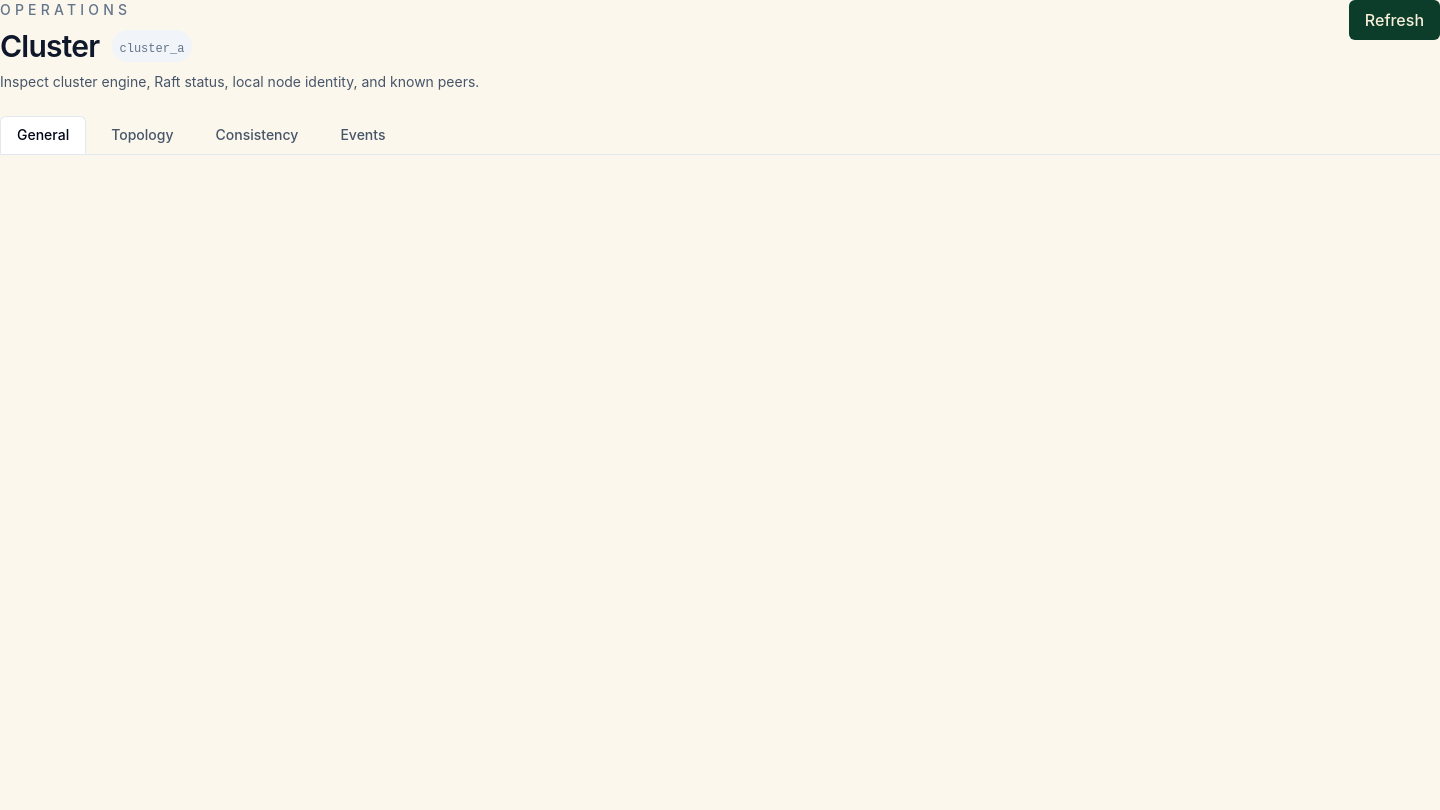
Test: ClusterPage › runs read-only graph consistency diagnostics
Click the tab "Consistency" at x=257, y=135, box [198,116,315,154]
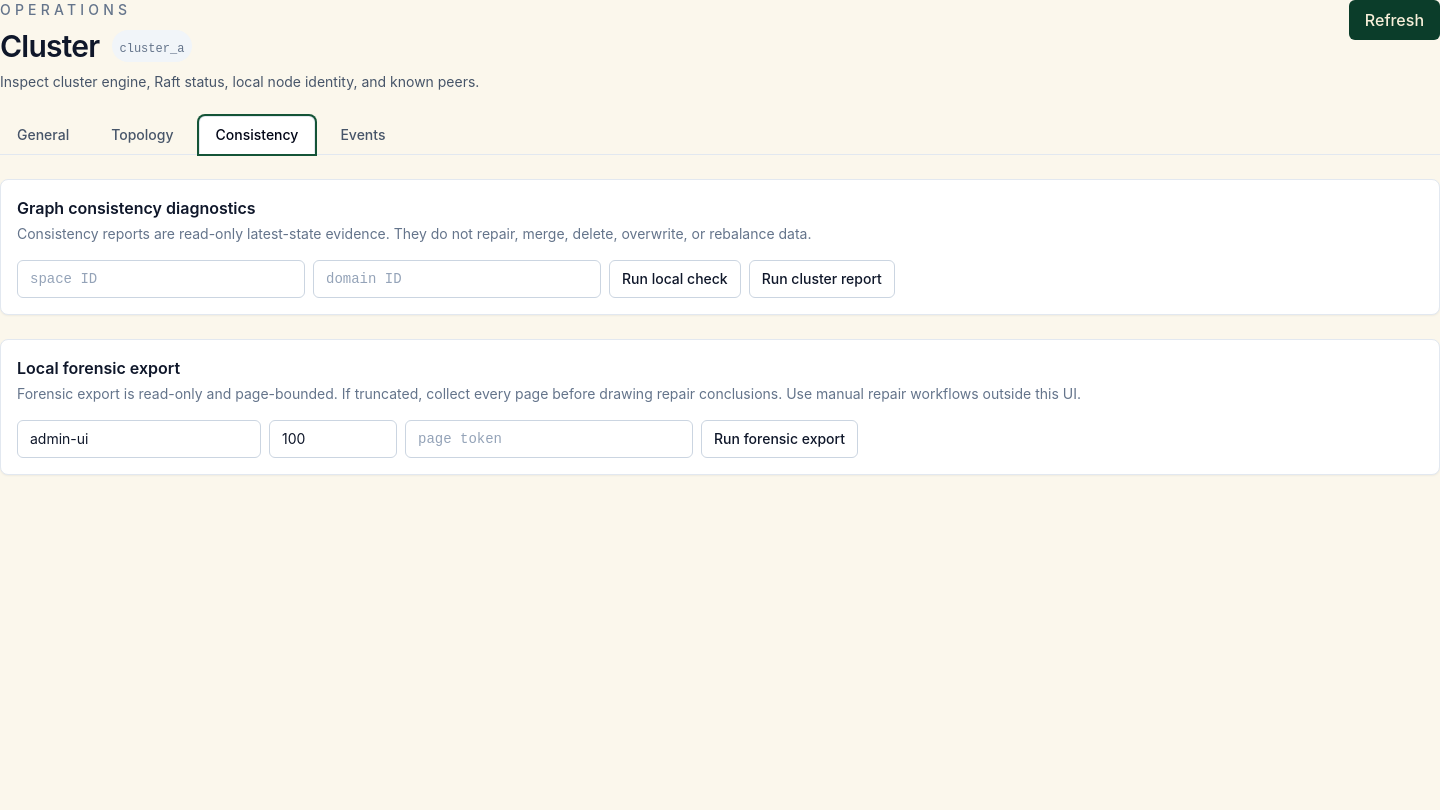
Check: the text "read-only latest-state evidence" is shown, box [17,225,812,242]
Type "sp_main" into the field named "consistency space id" at x=161, y=279, box [17,260,305,298]
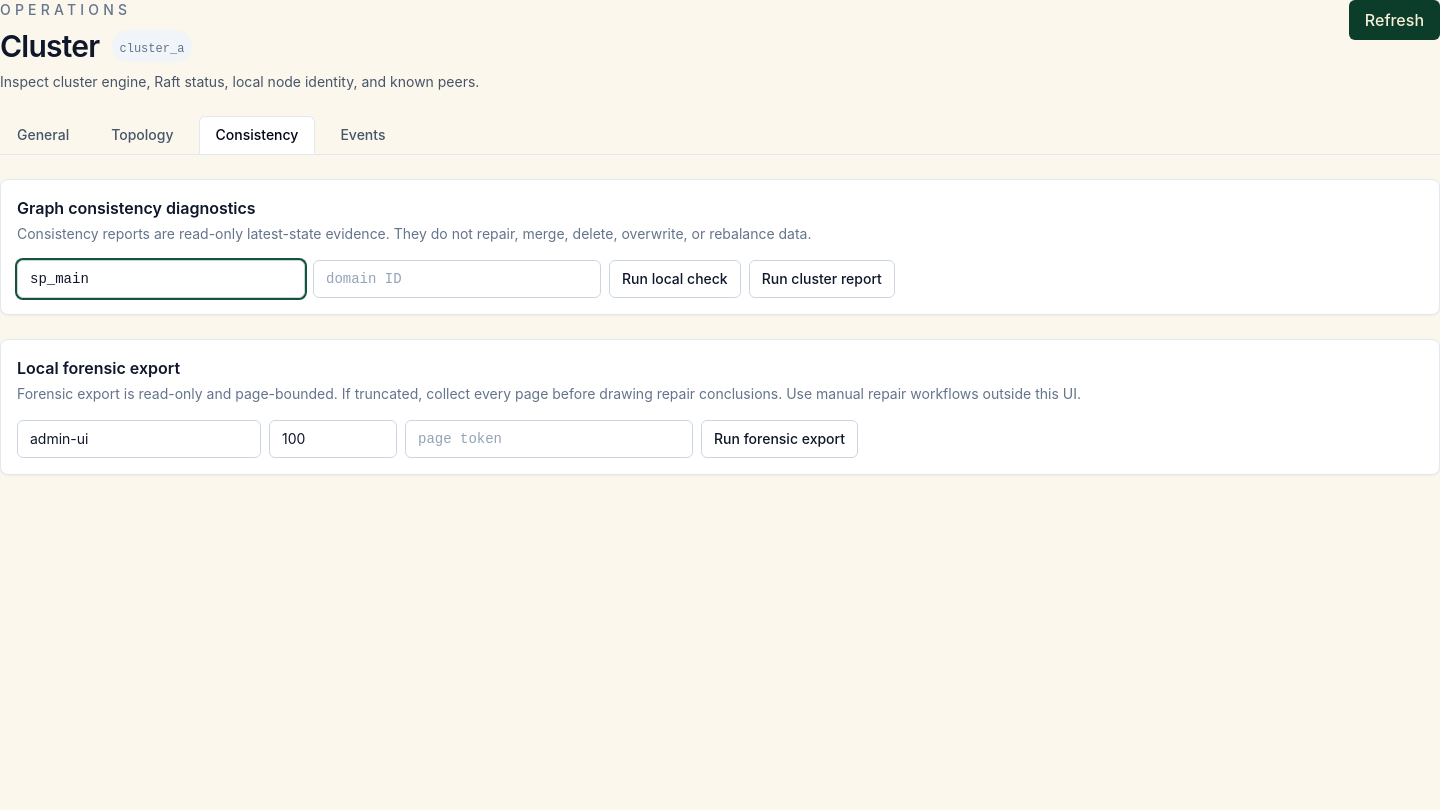
Type "dom_default" into the field named "consistency domain id" at x=457, y=279, box [313,260,601,298]
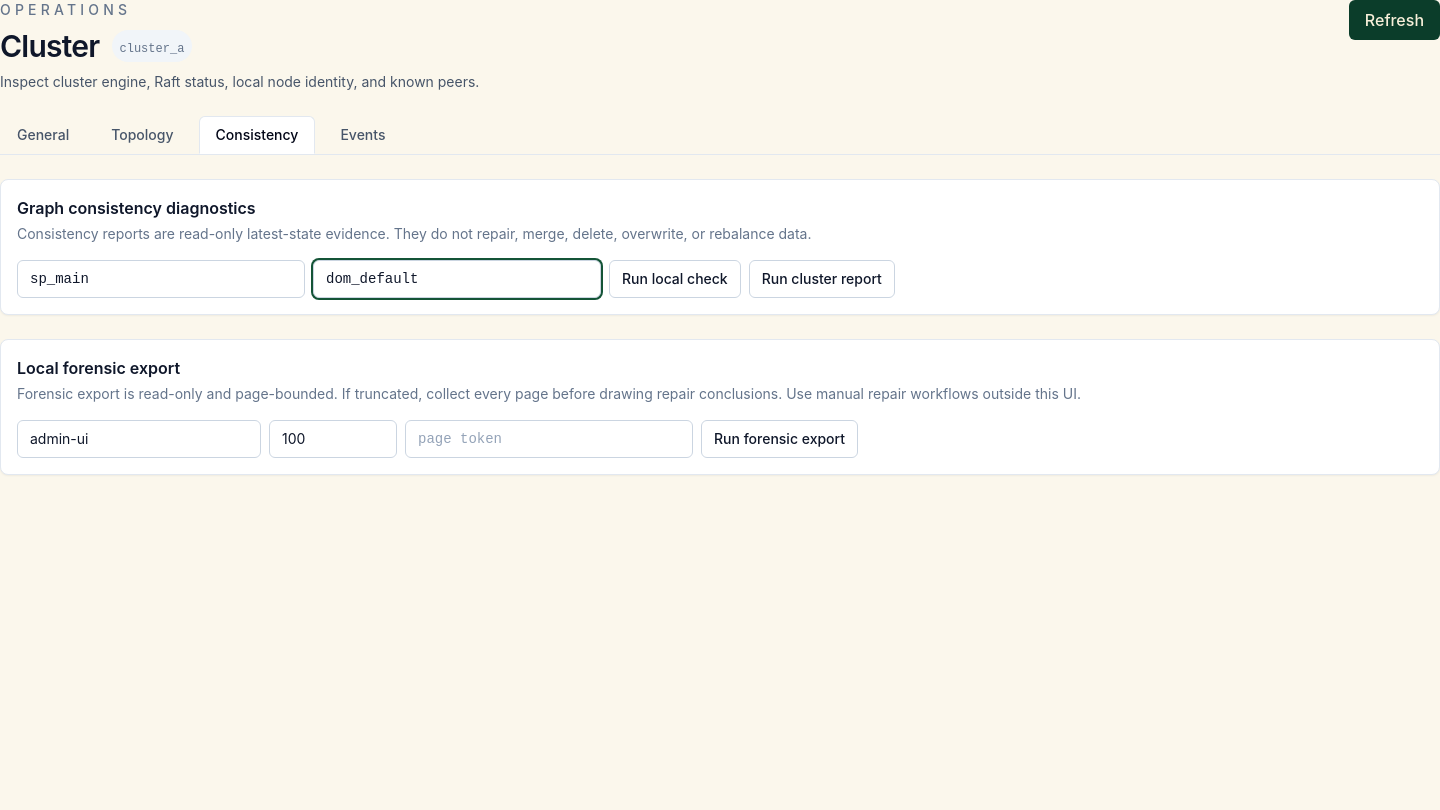
Click the button "Run local check" at x=675, y=279, box [609,260,741,298]
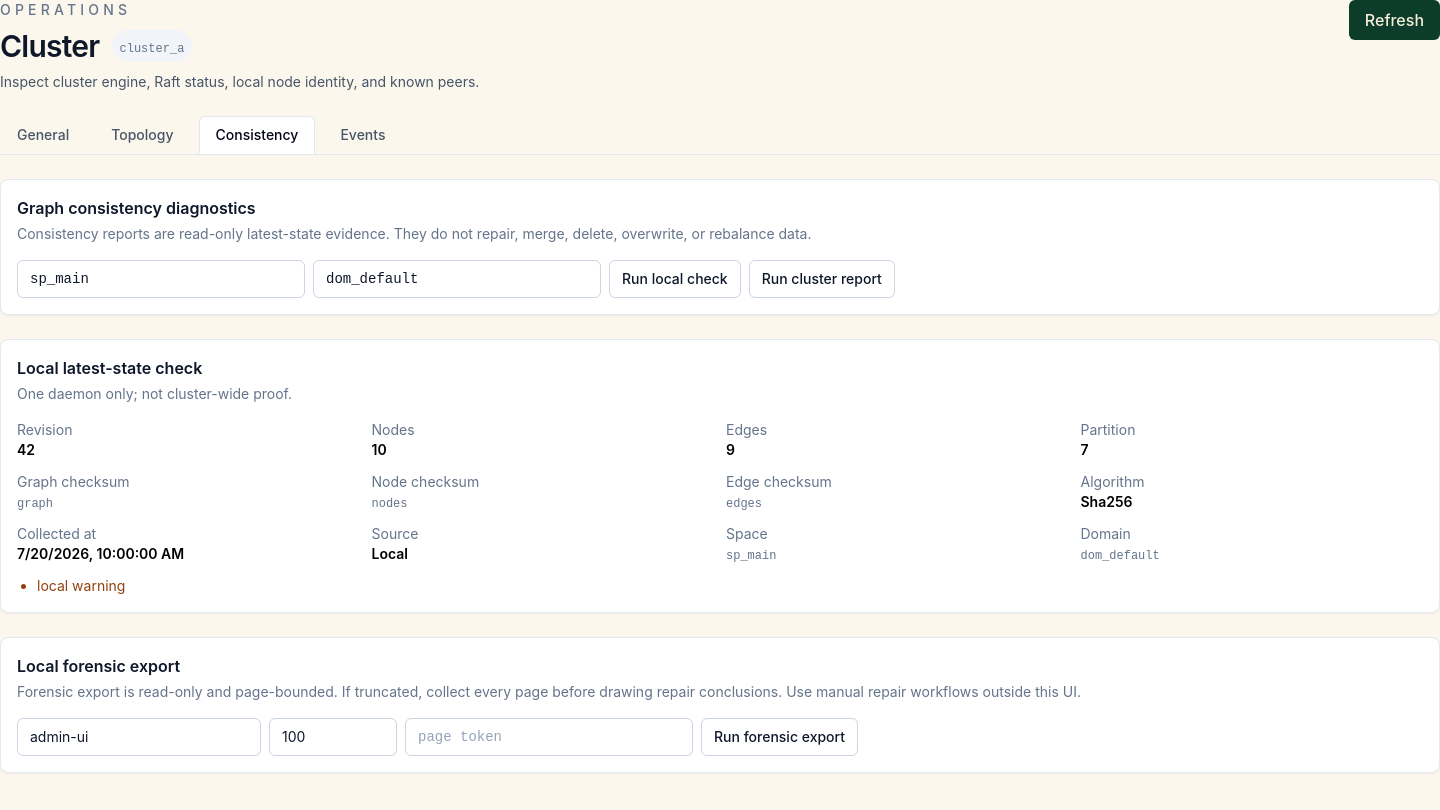
Check: the text "Local latest-state check" is shown, box [17,358,202,378]
Check: the text "graph" is shown, box [17,497,53,511]
Click the button "Run cluster report" at x=822, y=279, box [749,260,895,298]
(page scrolled)
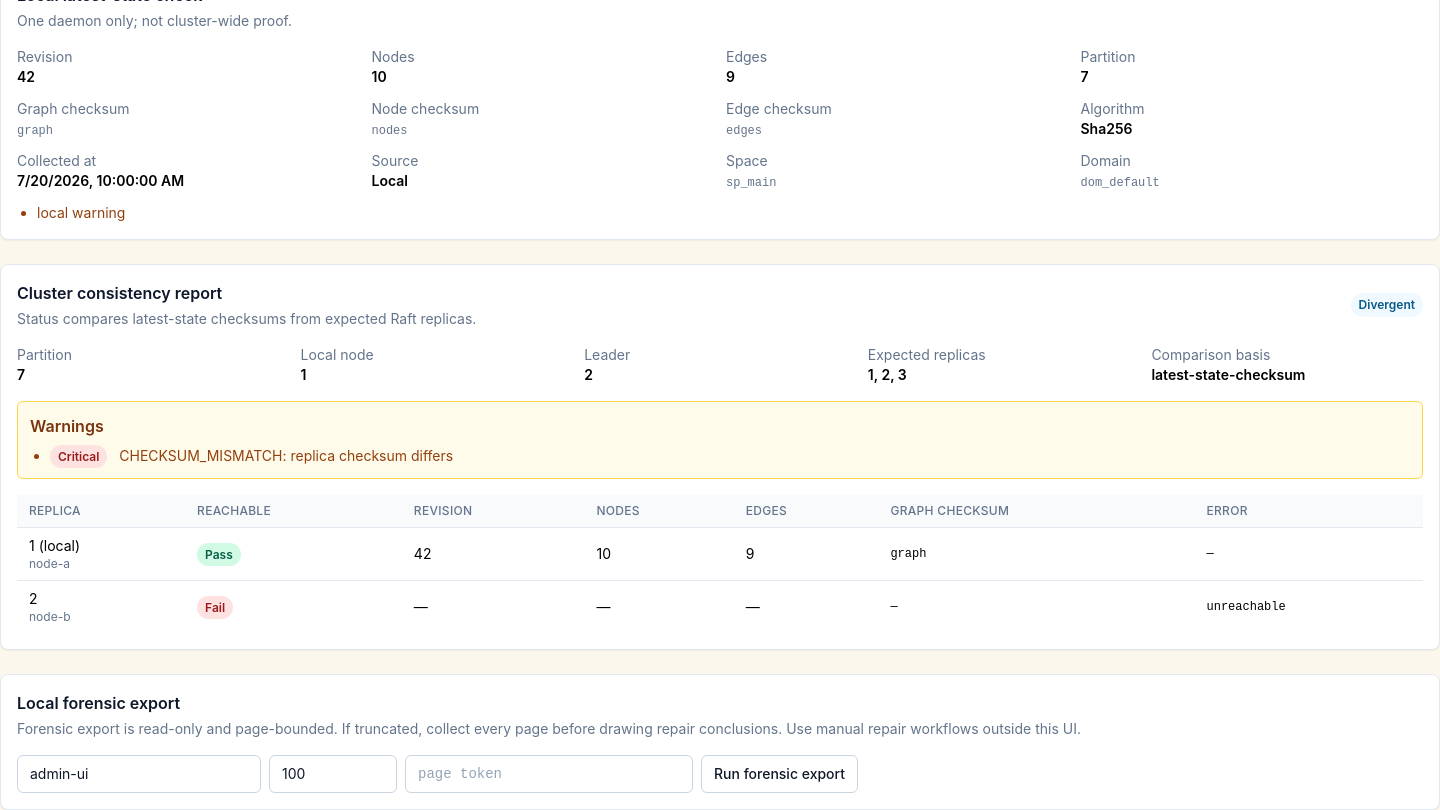
Check: the text "Cluster consistency report" is shown, box [17,283,222,303]
Check: the text "Divergent" is shown, box [1351,293,1423,317]
Check: the text "CHECKSUM_MISMATCH: replica checksum differs" is shown, box [119,447,453,464]
Click the button "Run forensic export" at x=780, y=774, box [701,755,858,793]
(page scrolled)
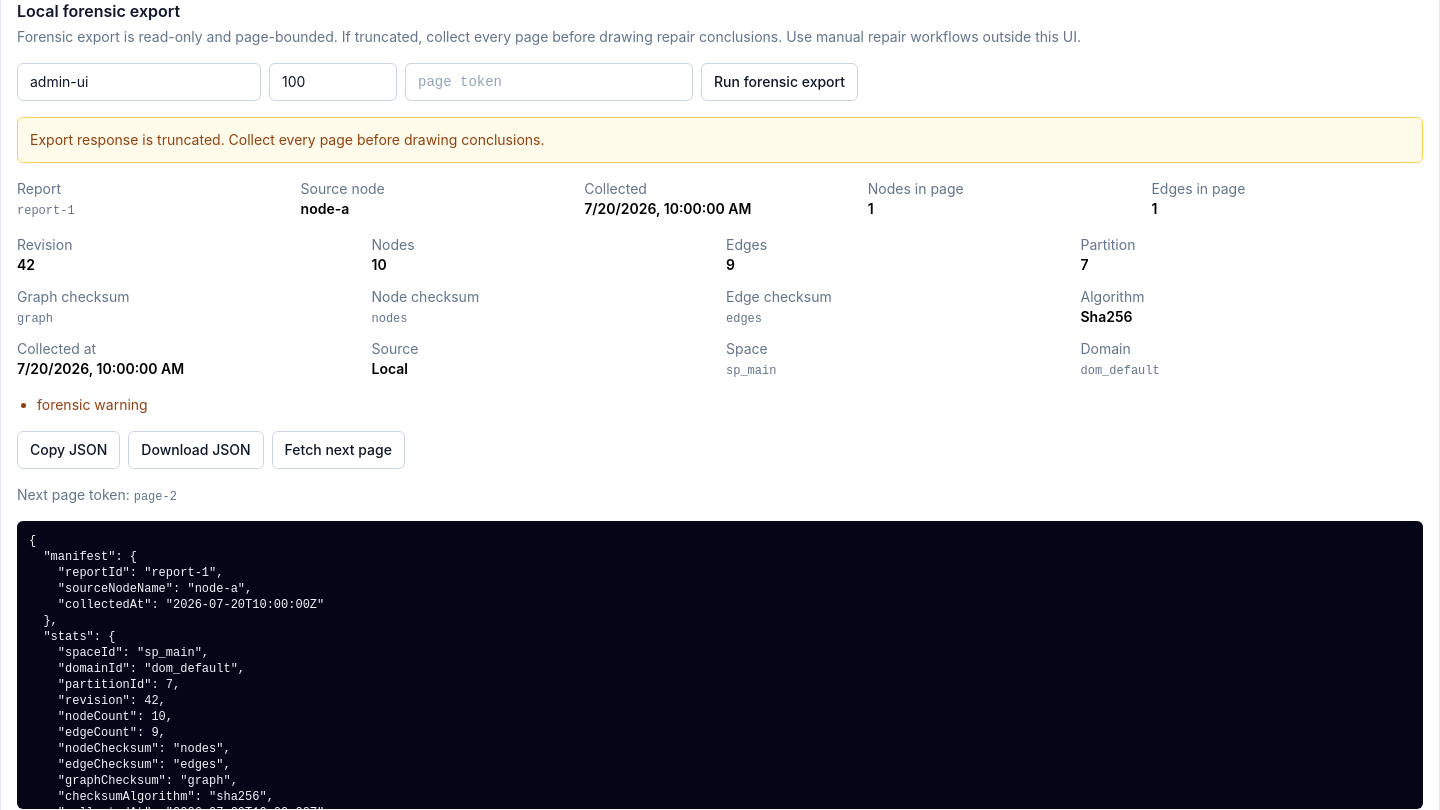
Check: the text "Local forensic export" is shown, box [17,1,180,21]
Check: the text "Export response is truncated" is shown, box [30,131,544,148]
Check: the text "report-1" is shown, box [17,204,75,218]
